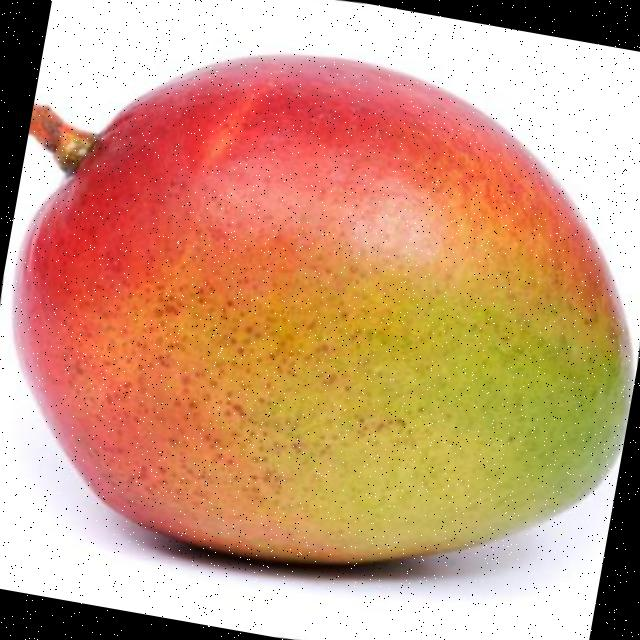mango: (15, 55, 633, 564)
